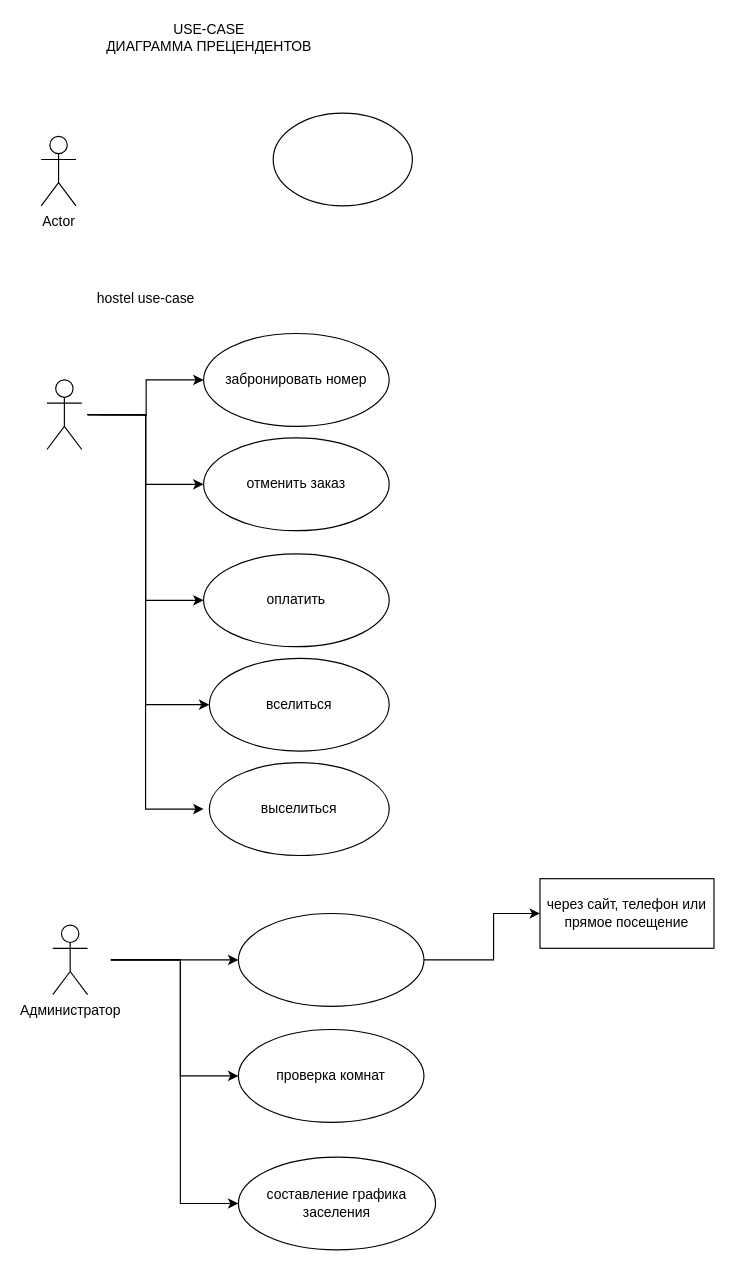
Some shapes in this 734 by 1270 pixel diagram are drawn without their labels. Each missing label, with the box of its shape:
Use Case: (272, 112, 412, 206)
Клиент: (46, 379, 82, 449)
оформить посетителя: (237, 912, 424, 1006)
